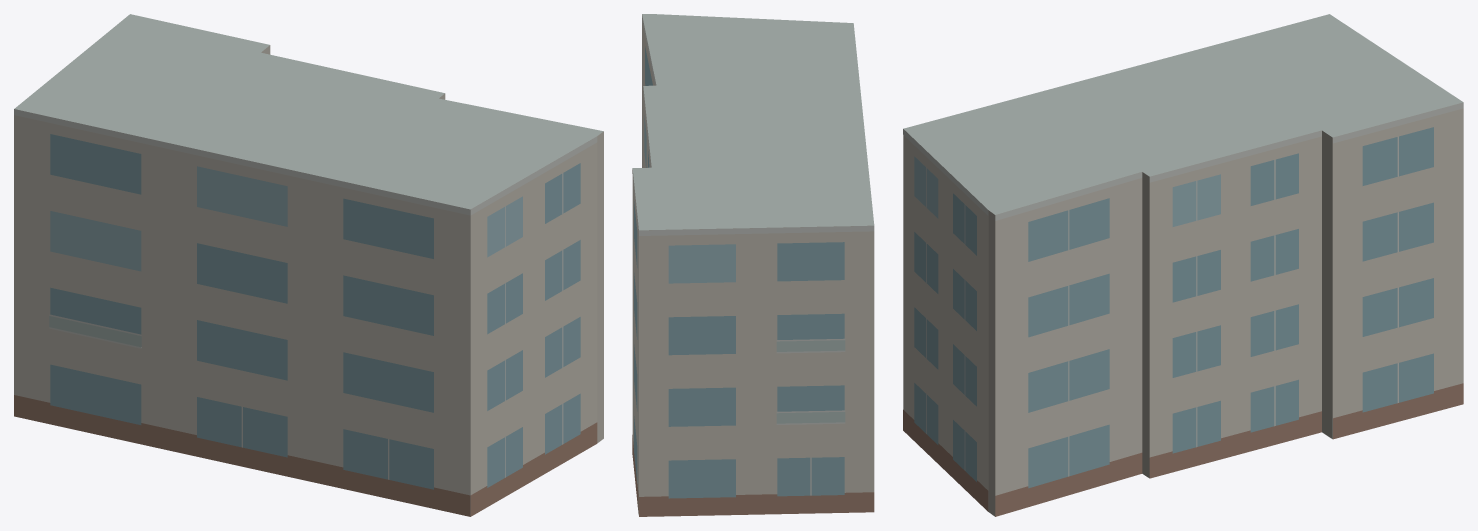
File: survey-upis-32913825.glb
3 views of the same model, side by side, from view 1: azimuth 30°, elevation 25°; view 2: azimuth 150°, elevation 25°; view 3: azimuth 270°, elevation 25° (orthographic). The views are drawn at different scales.
Visible parts, largest first — view 1: survey-upis-32913825.tmp; view 2: survey-upis-32913825.tmp; view 3: survey-upis-32913825.tmp.
Boxes of the visible parts, <box> form: survey-upis-32913825.tmp: <box>14,14,603,516</box>; survey-upis-32913825.tmp: <box>632,14,874,516</box>; survey-upis-32913825.tmp: <box>903,14,1463,516</box>.
Bounding box in the file's own units: 17.43 × 12.2 × 20.54.
